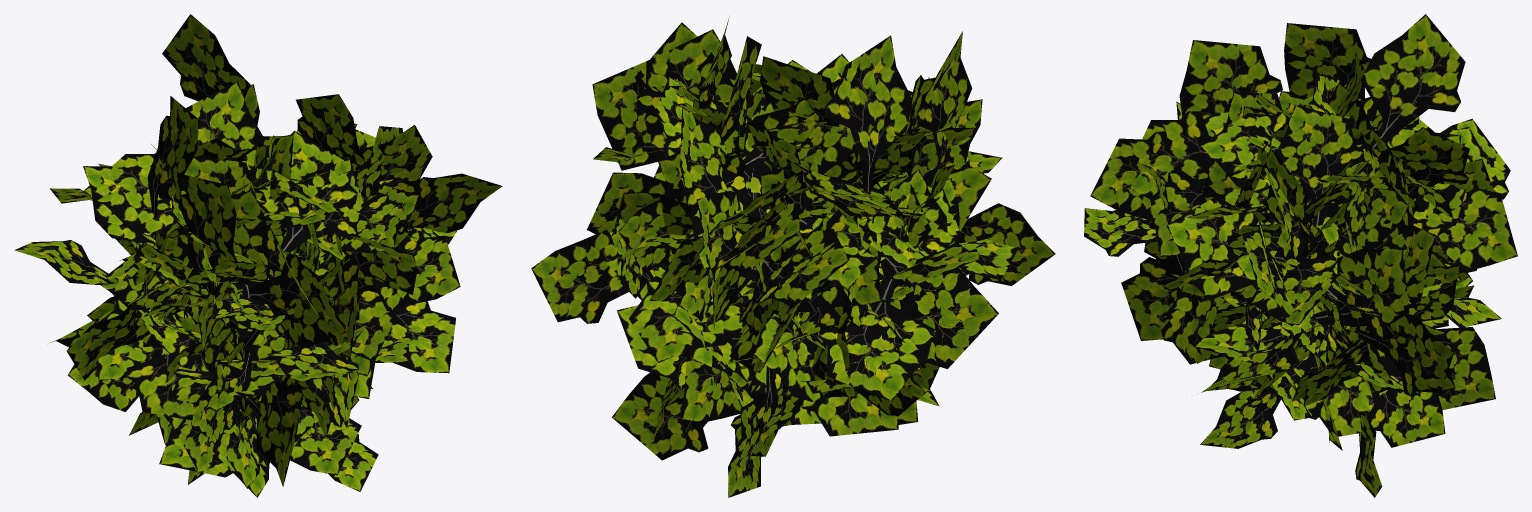
Rendered from leaves 003.fbx.
3 views of the same model, side by side, from view 1: azimuth 30°, elevation 25°; view 2: azimuth 150°, elevation 25°; view 3: azimuth 270°, elevation 25° (orthographic). The views are drawn at different scales.
Visible parts, largest first — view 1: leaves 003_Baked; view 2: leaves 003_Baked; view 3: leaves 003_Baked.
Part boxes in pixels (<box>): leaves 003_Baked: <box>14,14,502,497</box>; leaves 003_Baked: <box>531,16,1055,497</box>; leaves 003_Baked: <box>1084,14,1517,497</box>.
Size of the model in its own units: 668 by 661 by 600.
1 material, 1 textured.
